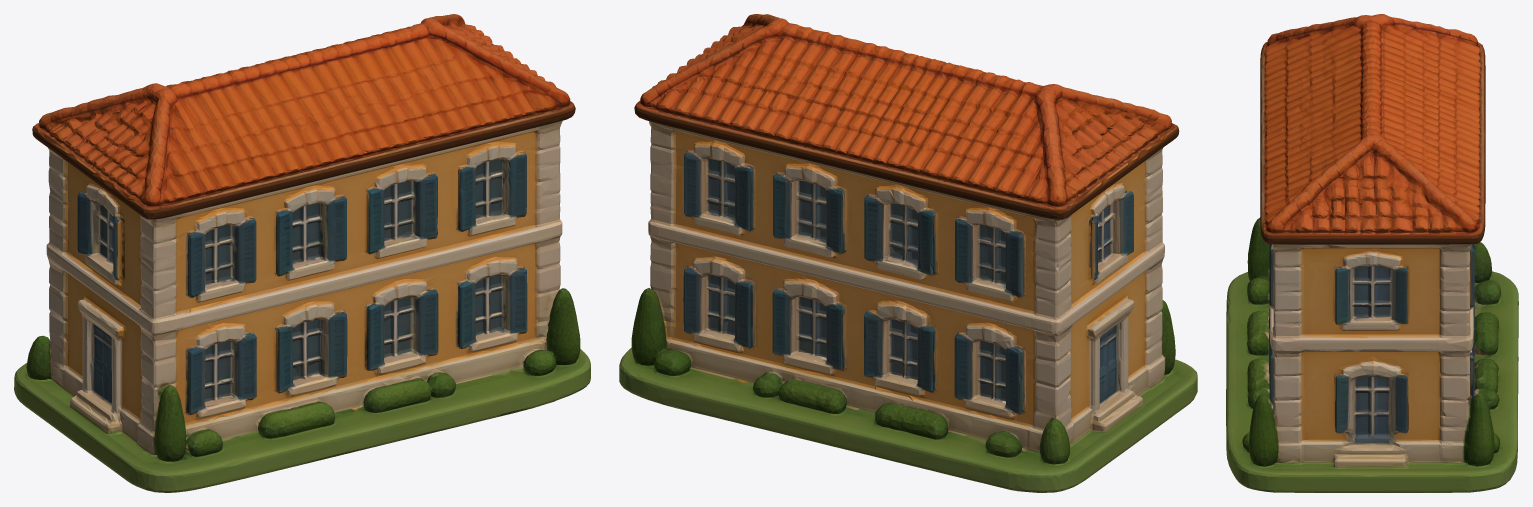
File: cuneo-2022-schoolroom.glb
The picture shows the model from 3 angles, left to right: view 1: azimuth 30°, elevation 25°; view 2: azimuth 150°, elevation 25°; view 3: azimuth 270°, elevation 25°; orthographic projection. The views are drawn at different scales.
Parts seen in each view (by area): view 1: textured_mesh.obj; view 2: textured_mesh.obj; view 3: textured_mesh.obj.
Boxes of the visible parts, left/top/right/bottom form: textured_mesh.obj: left=14, top=14, right=590, bottom=492; textured_mesh.obj: left=619, top=14, right=1197, bottom=492; textured_mesh.obj: left=1226, top=14, right=1518, bottom=492.
Bounding box in the file's own units: 1.99 × 1.4 × 1.19.
1 material, 1 textured.
